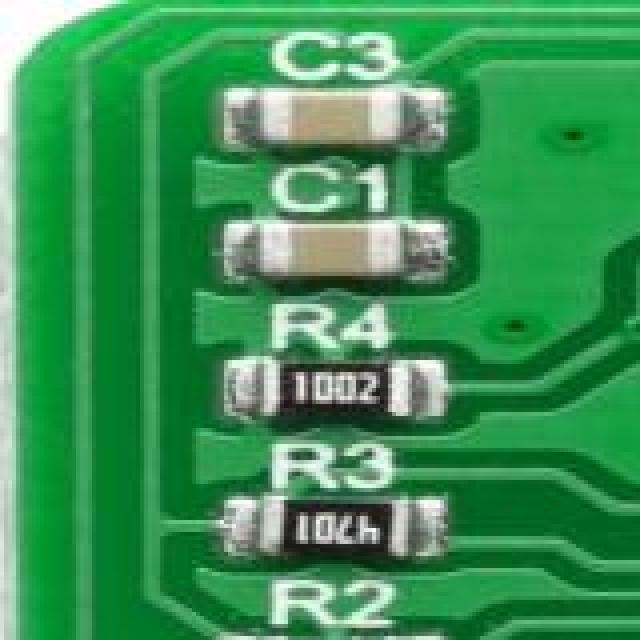capacitor: (240, 208, 398, 314), (256, 80, 432, 168)
resistor: (220, 356, 438, 432), (232, 488, 438, 564), (256, 616, 436, 640)
